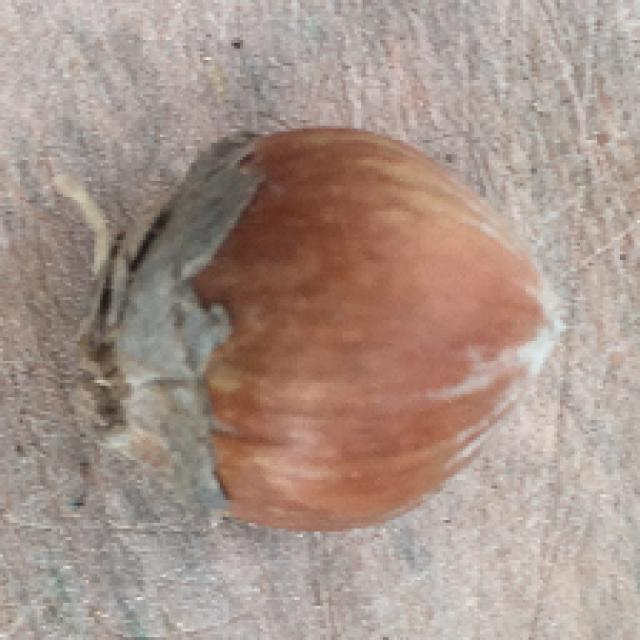damagedHazelnut: (81, 126, 565, 543)
